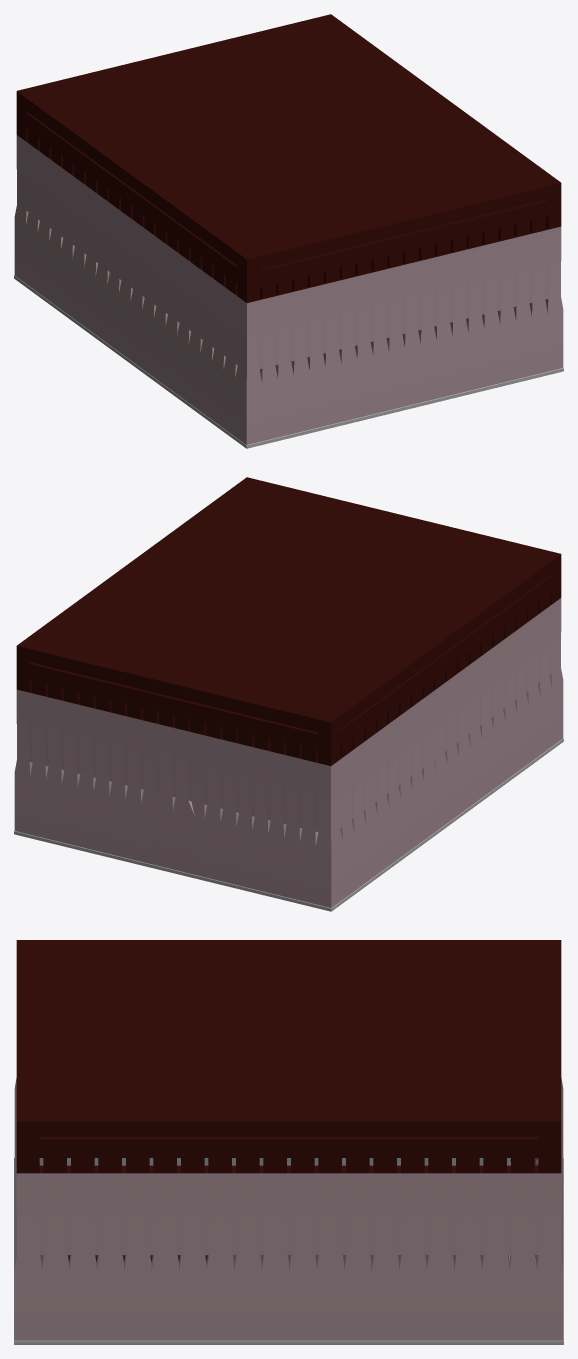
Rendered from Cafe.fbx.
3 views of the same model, one above another, from view 1: azimuth 30°, elevation 25°; view 2: azimuth 150°, elevation 25°; view 3: azimuth 270°, elevation 25° (orthographic). The views are drawn at different scales.
Visible parts, largest first — view 1: Cafe; view 2: Cafe; view 3: Cafe.
Part boxes in pixels (left/top/right/bottom): Cafe: left=14, top=14, right=563, bottom=448; Cafe: left=14, top=477, right=563, bottom=911; Cafe: left=14, top=940, right=563, bottom=1344.
Bounding box in the file's own units: 23.14 × 13.12 × 29.35.
